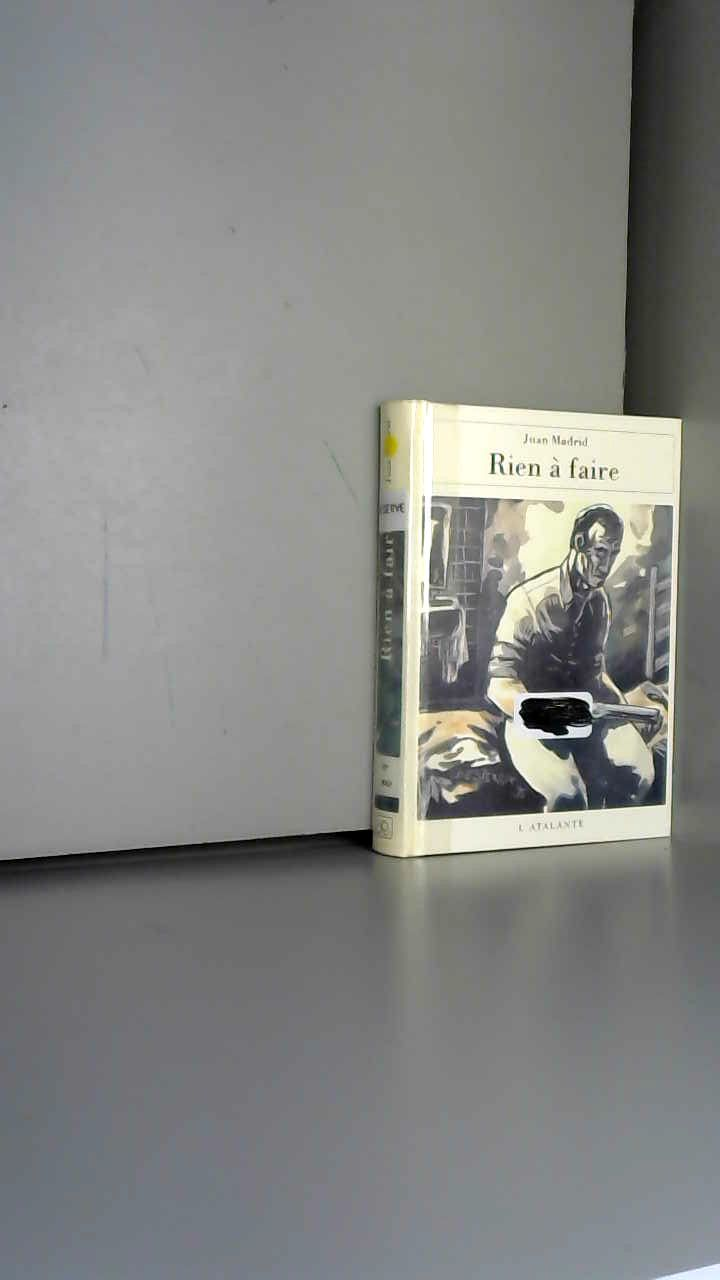book: (350, 370, 720, 875)
